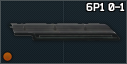AK-74 dust cover 6P20 0-1: (0, 0, 127, 64)
